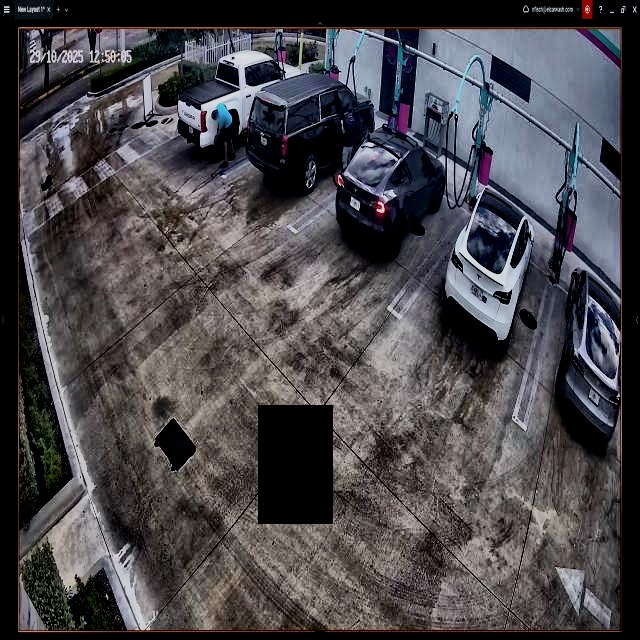Car: (247, 76, 374, 192), (332, 128, 444, 259), (447, 185, 533, 344), (177, 46, 302, 155)
